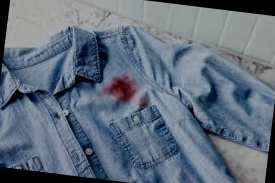wine: (99, 70, 154, 110)
